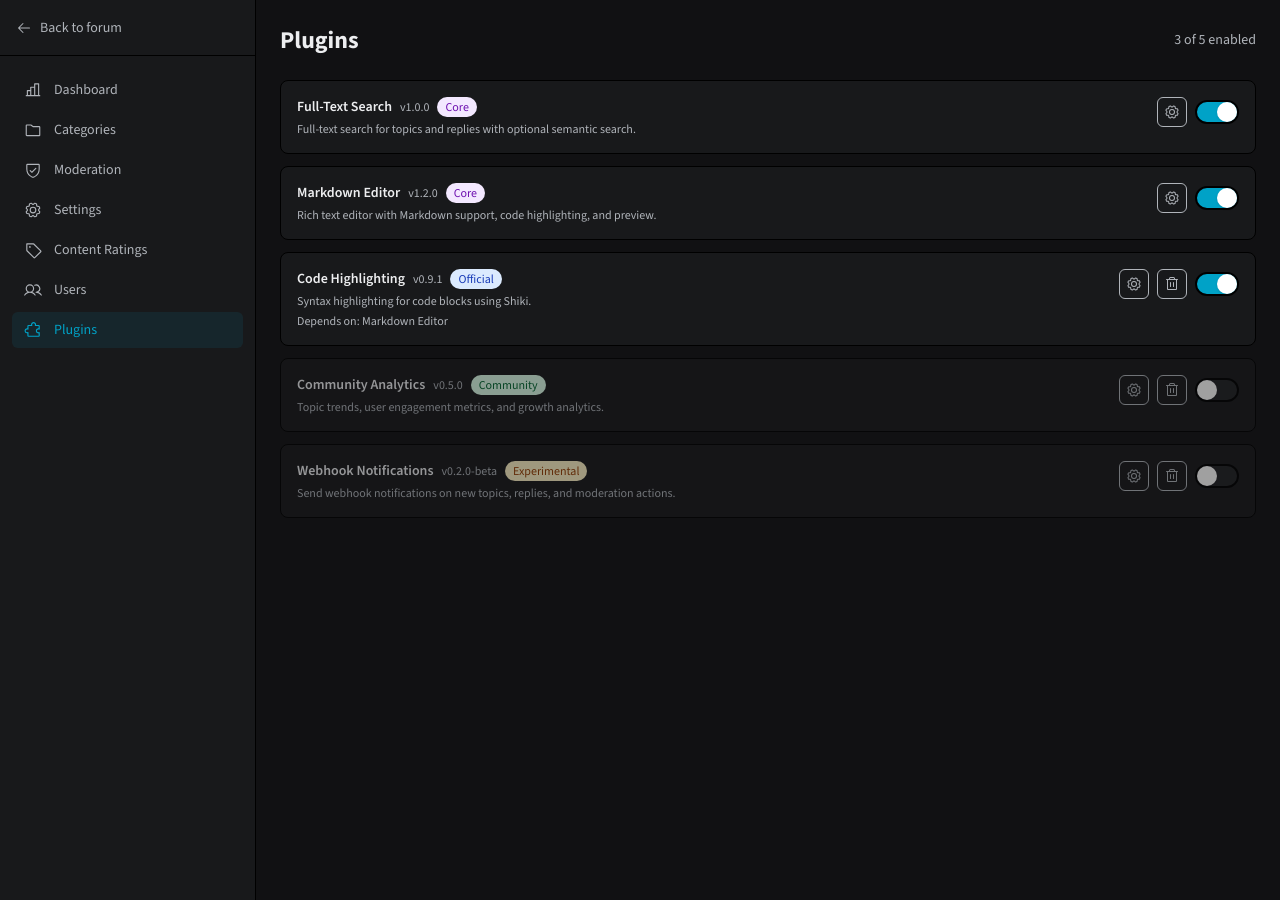
Test: AdminPluginsPage › opens settings modal when settings button is clicked
Expected: the heading "Full-Text Search" is shown, [297, 97, 392, 117]
Expected: the text "Full-Text Search" is shown, [297, 97, 392, 116]
What coordinates should you click on to do the following:
click the button named "settings"
I would click on:
 (1172, 112)
Its box is [1157, 97, 1187, 127].
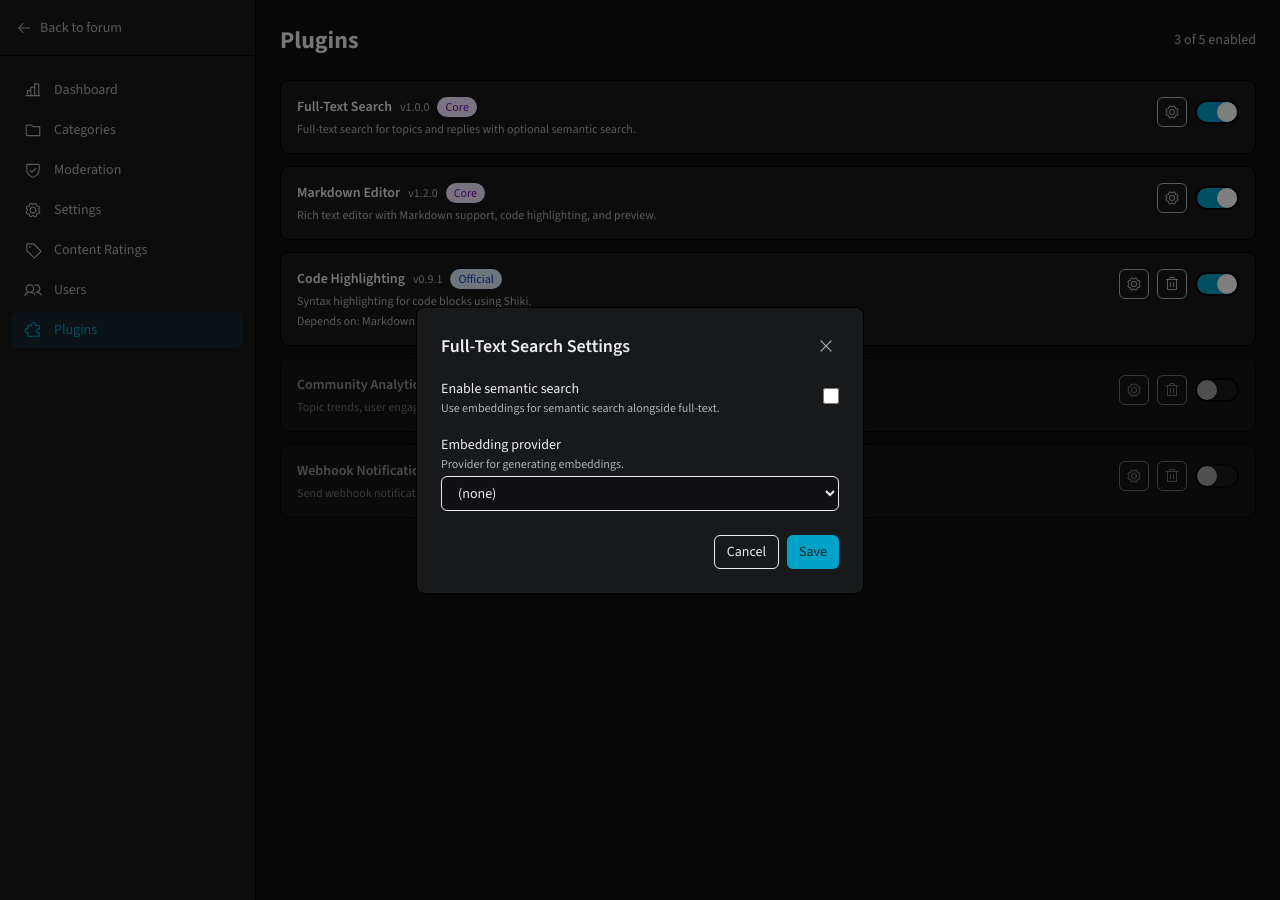
Result: the text "Enable semantic search" is shown at [441, 378, 579, 398]
